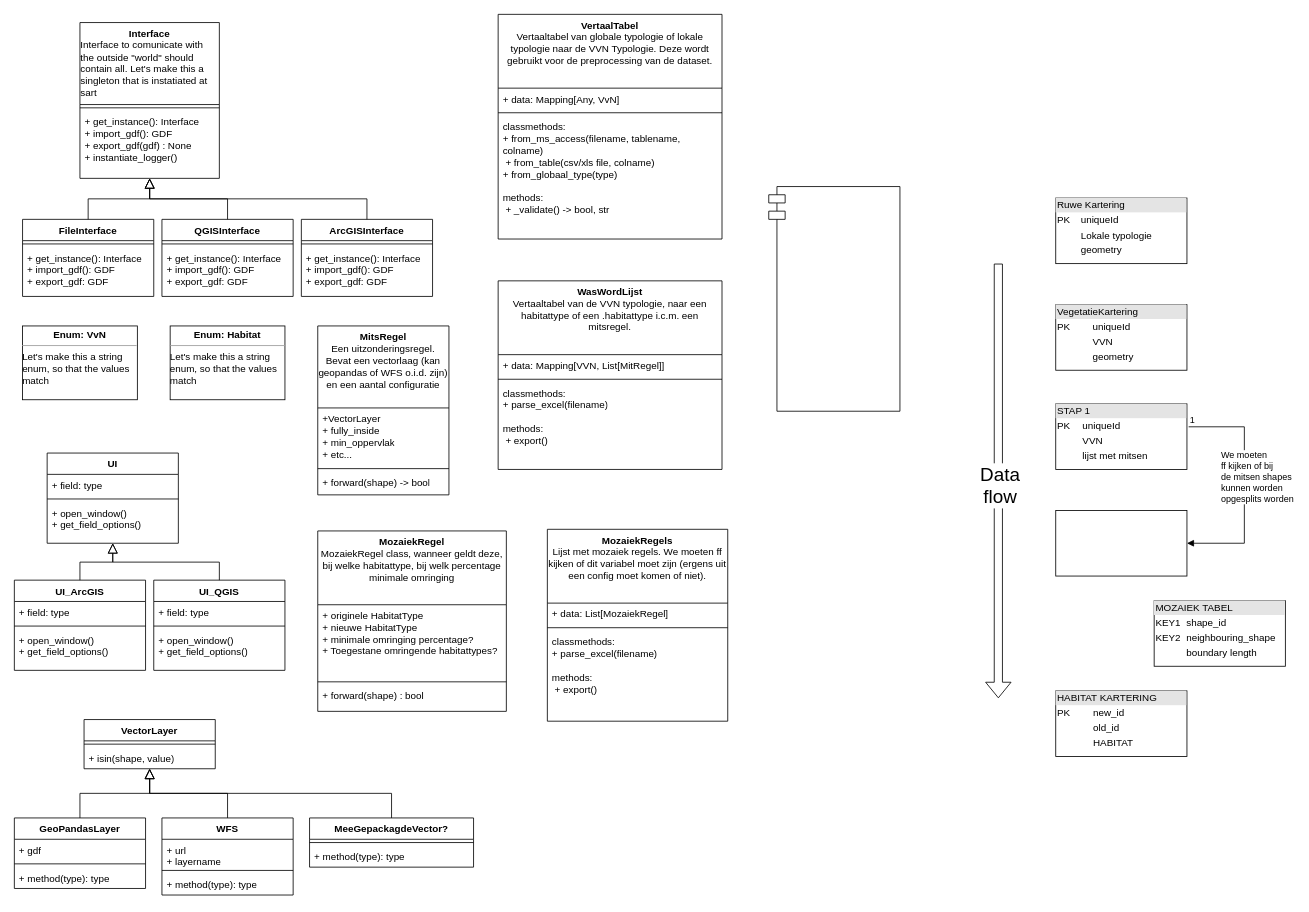
Some shapes in this 1309 by 912 pixel diagram are drawn without their labels. The shapes that lost their labels are listed below. From the top down, each one's centre as x and y in pixels, then its label:
(834,298): free functions
(1121,543): STAP 2 PK new_id old_id HABITAT
